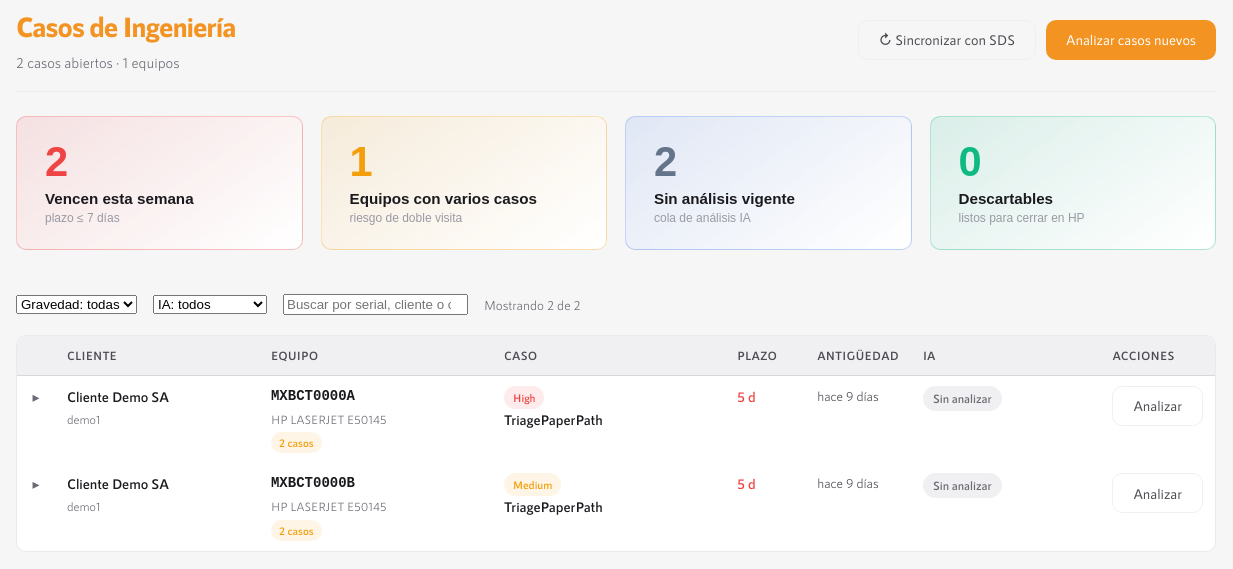
Test: EngineeringCasesPage › filtro de gravedad reduce las filas visibles
Expected: the text "MXBCT0000A" is shown, [271,388,355,404]
Expected: the text "MXBCT0000B" is shown, [271,475,355,491]
Select "Alta" in the 1st dropdown showing "Gravedad: todas". click: (76, 305)
box: [16,295,137,314]
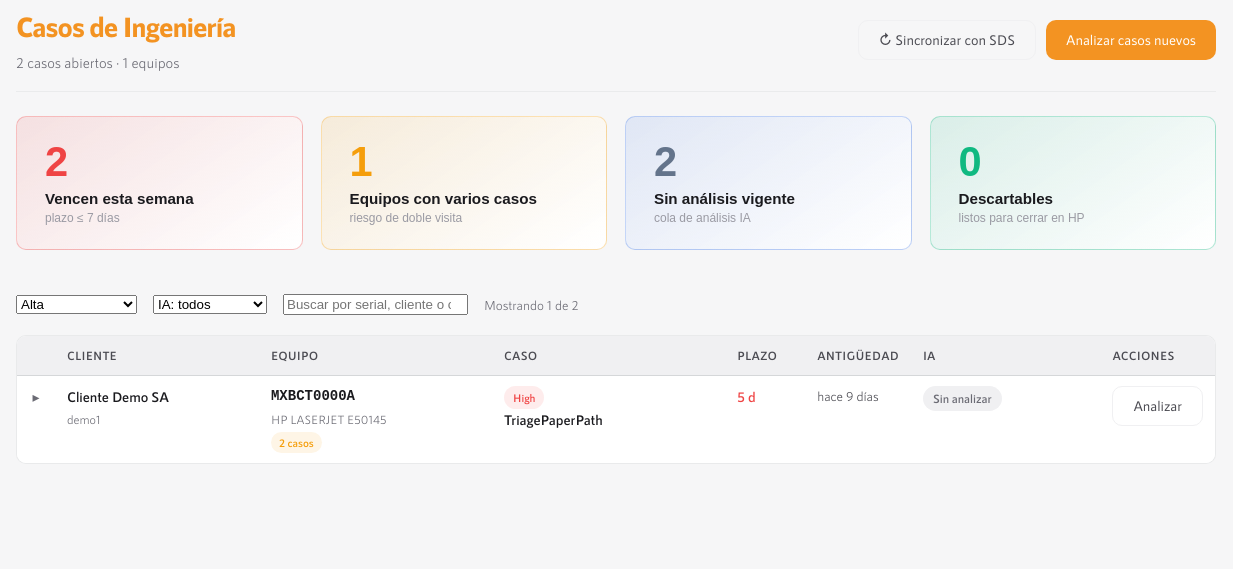
Expected: the text "MXBCT0000A" is shown, [271,388,355,404]
Expected: the text "MXBCT0000B" is gone
